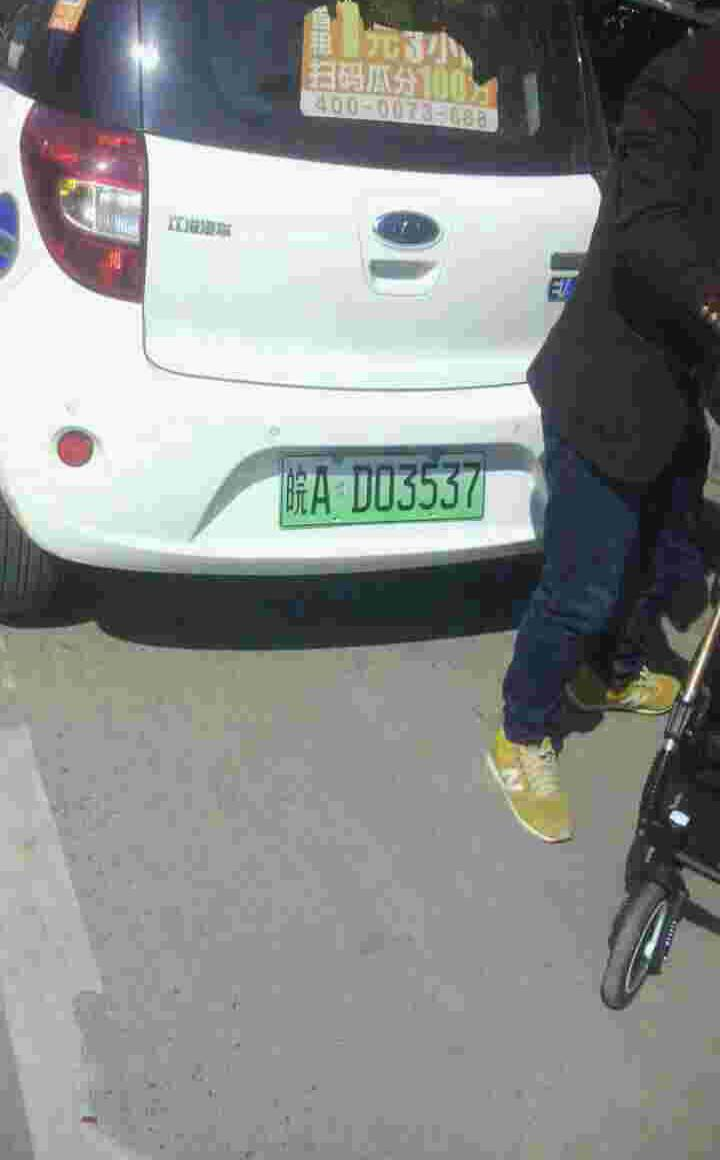car: (273, 451, 489, 526)
